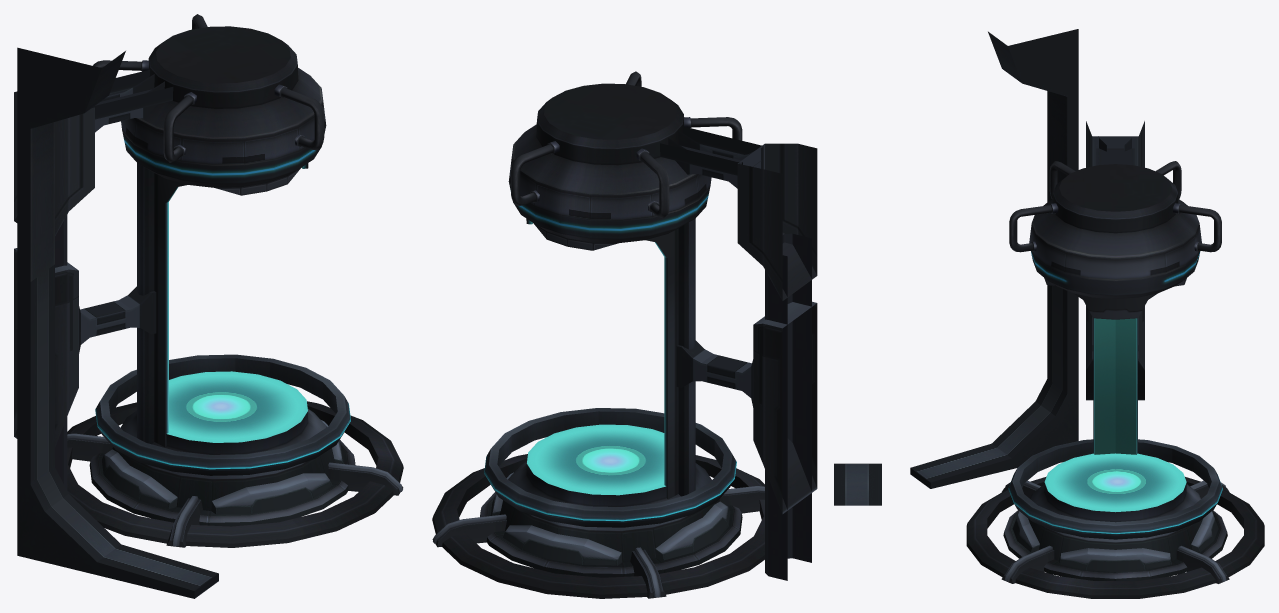
Rendered from ts_cjlz001.FBX.
The picture shows the model from 3 angles, left to right: view 1: azimuth 30°, elevation 25°; view 2: azimuth 150°, elevation 25°; view 3: azimuth 270°, elevation 25°; orthographic projection. The views are drawn at different scales.
Visible parts, largest first — view 1: ts_cjlz001; view 2: ts_cjlz001; view 3: ts_cjlz001.
Part boxes in pixels (x1=…): ts_cjlz001: x1=14, y1=14, x2=403, y2=598; ts_cjlz001: x1=432, y1=71, x2=881, y2=598; ts_cjlz001: x1=910, y1=29, x2=1264, y2=598.
Size of the model in its own units: 3.81 by 4.71 by 3.55.
